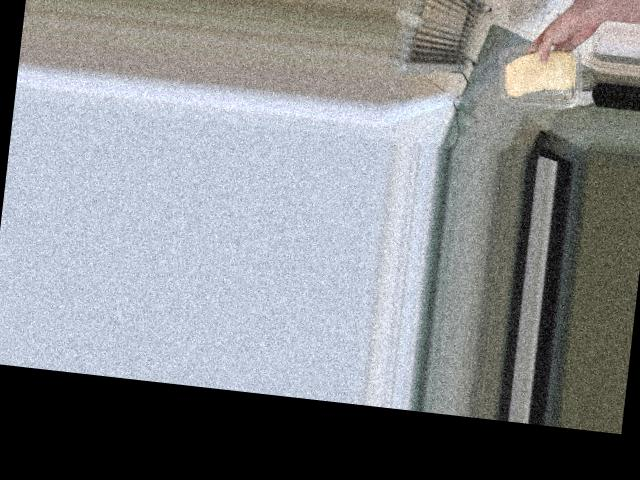cheese: (491, 37, 585, 110)
